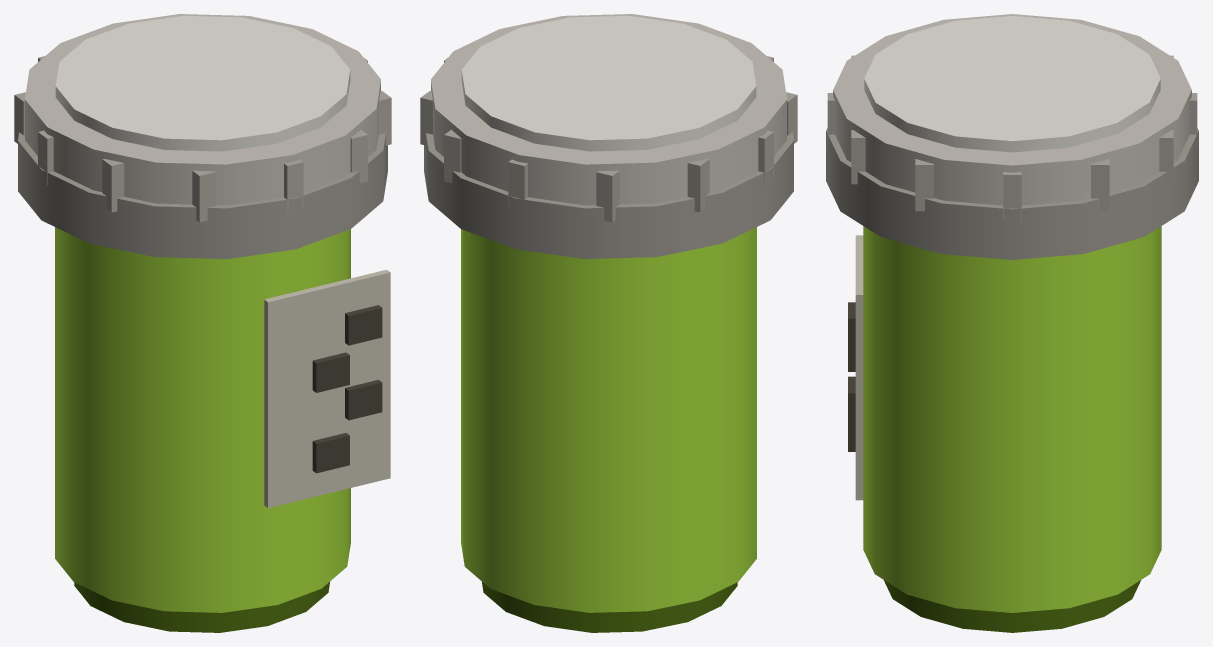
The model's file is CMU3DCMPillCanisterDylovene.glb.
The picture shows the model from 3 angles, left to right: view 1: azimuth 30°, elevation 25°; view 2: azimuth 150°, elevation 25°; view 3: azimuth 270°, elevation 25°; orthographic projection.
Visible parts, largest first — view 1: colored bottle body, cap top inset, small medicine label, closed pale screw cap, cap rim, source label ink (×4), cap grip rib (×6), bottle lower bevel; view 2: colored bottle body, cap top inset, closed pale screw cap, cap rim, cap grip rib (×6), bottle lower bevel; view 3: colored bottle body, cap top inset, closed pale screw cap, cap rim, bottle lower bevel, cap grip rib (×5), small medicine label.
Part boxes in pixels (box(x1,y1,x2,y2)): colored bottle body: box(55, 227, 350, 612); cap top inset: box(55, 15, 350, 151); small medicine label: box(264, 269, 390, 507); closed pale screw cap: box(25, 14, 380, 205); cap rim: box(18, 132, 387, 258); source label ink (×4): box(312, 305, 382, 473); cap grip rib (×6): box(38, 91, 391, 222); bottle lower bevel: box(74, 581, 330, 632); colored bottle body: box(461, 227, 756, 612); cap top inset: box(461, 15, 756, 151); closed pale screw cap: box(431, 14, 786, 205); cap rim: box(424, 132, 793, 258); cap grip rib (×6): box(420, 91, 773, 222); bottle lower bevel: box(481, 581, 737, 632); colored bottle body: box(863, 226, 1161, 612); cap top inset: box(864, 16, 1160, 152); closed pale screw cap: box(833, 14, 1191, 205); cap rim: box(826, 128, 1198, 259); bottle lower bevel: box(884, 580, 1140, 632); cap grip rib (×5): box(851, 130, 1173, 221); small medicine label: box(855, 235, 863, 500).
Bounding box in the file's own units: 0.24 × 0.355 × 0.24.
